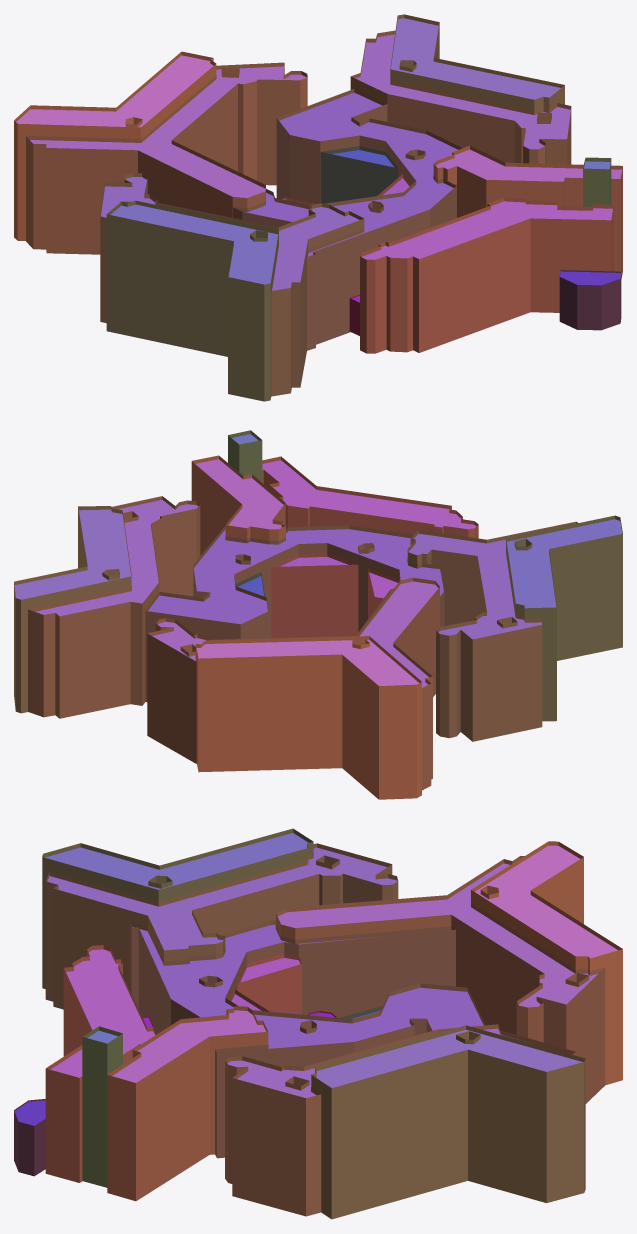
Rendered from edificios_Hotel.glb.
3 renders of one model, top to bottom at view 1: azimuth 30°, elevation 25°; view 2: azimuth 150°, elevation 25°; view 3: azimuth 270°, elevation 25°, orthographic. The views are drawn at different scales.
Visible parts, largest first — view 1: Edificios_Hotel; view 2: Edificios_Hotel; view 3: Edificios_Hotel.
Boxes of the visible parts, x1,y1,x2,y2 form: Edificios_Hotel: (14,14,622,401); Edificios_Hotel: (14,430,622,799); Edificios_Hotel: (14,828,622,1219).
Size of the model in its own units: 129 by 33.89 by 127.
